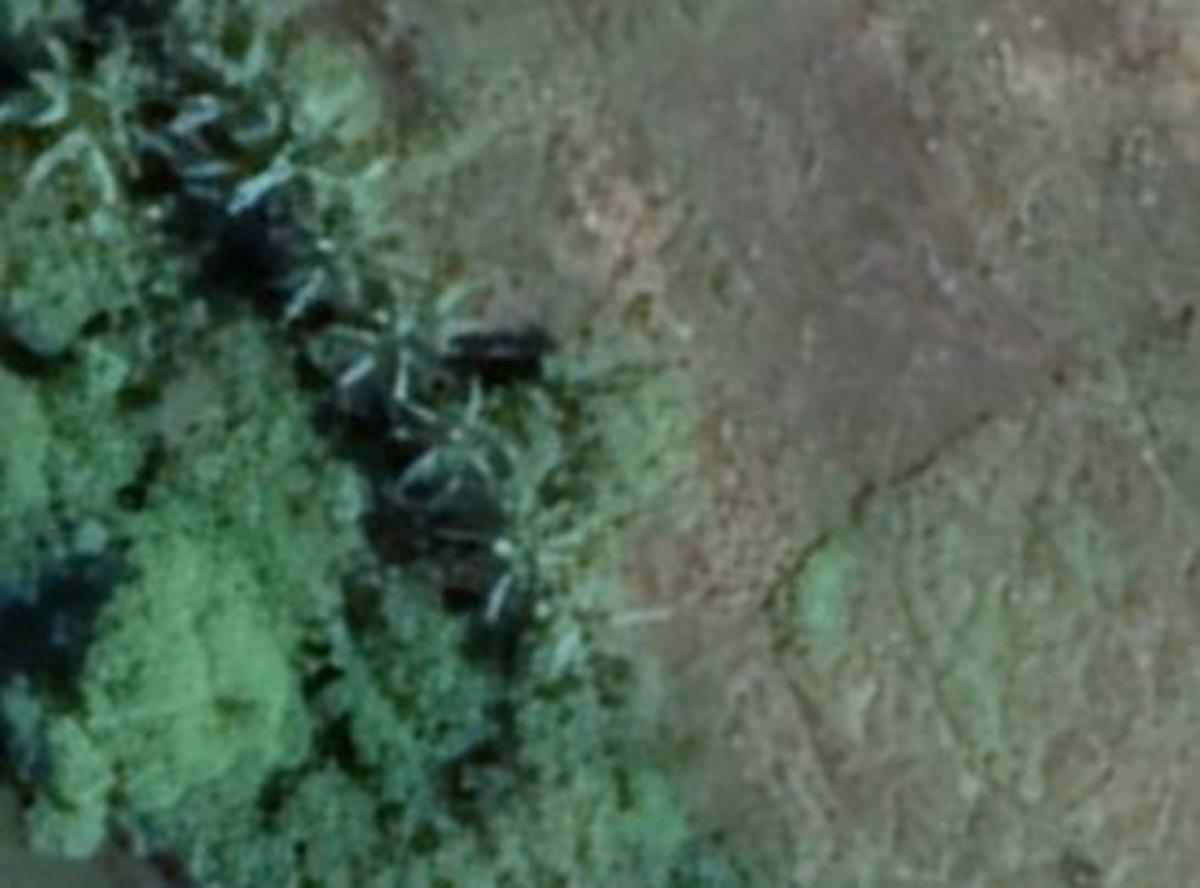coconut: (388, 381, 532, 532), (337, 278, 491, 410), (253, 194, 411, 315), (462, 517, 623, 634)
